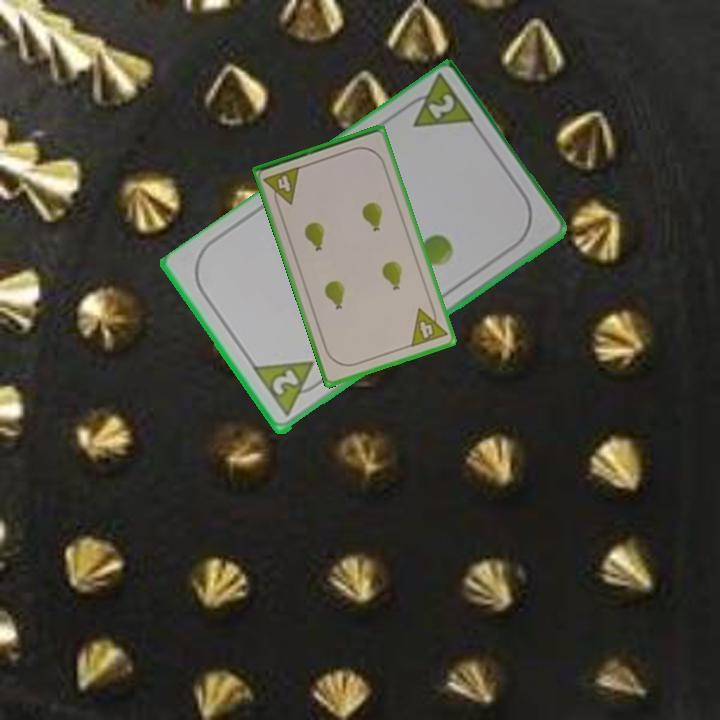2p: (249, 357, 328, 420), (424, 90, 458, 123)
4p: (407, 301, 450, 350), (260, 163, 303, 211)
